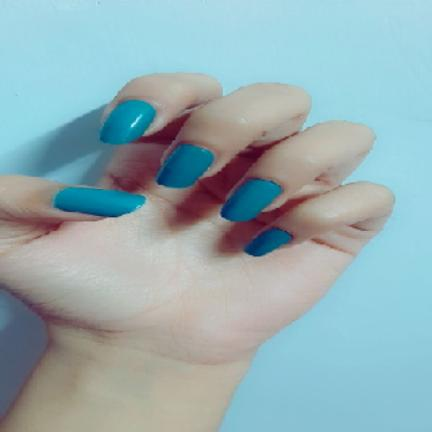Nail: (54, 187, 145, 217), (156, 143, 215, 188), (220, 179, 281, 222), (100, 100, 156, 144), (245, 228, 292, 256)
